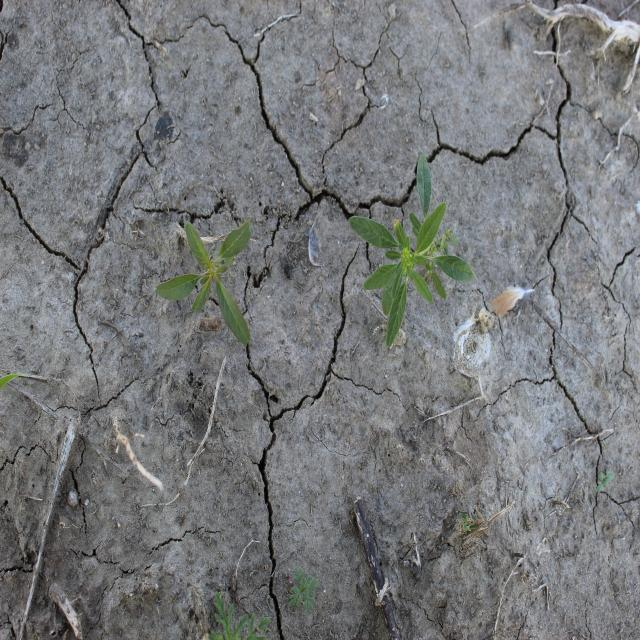Ragweed: (208, 588, 271, 639), (286, 566, 320, 614)
Waterhemp: (348, 154, 476, 349), (156, 217, 254, 347)
